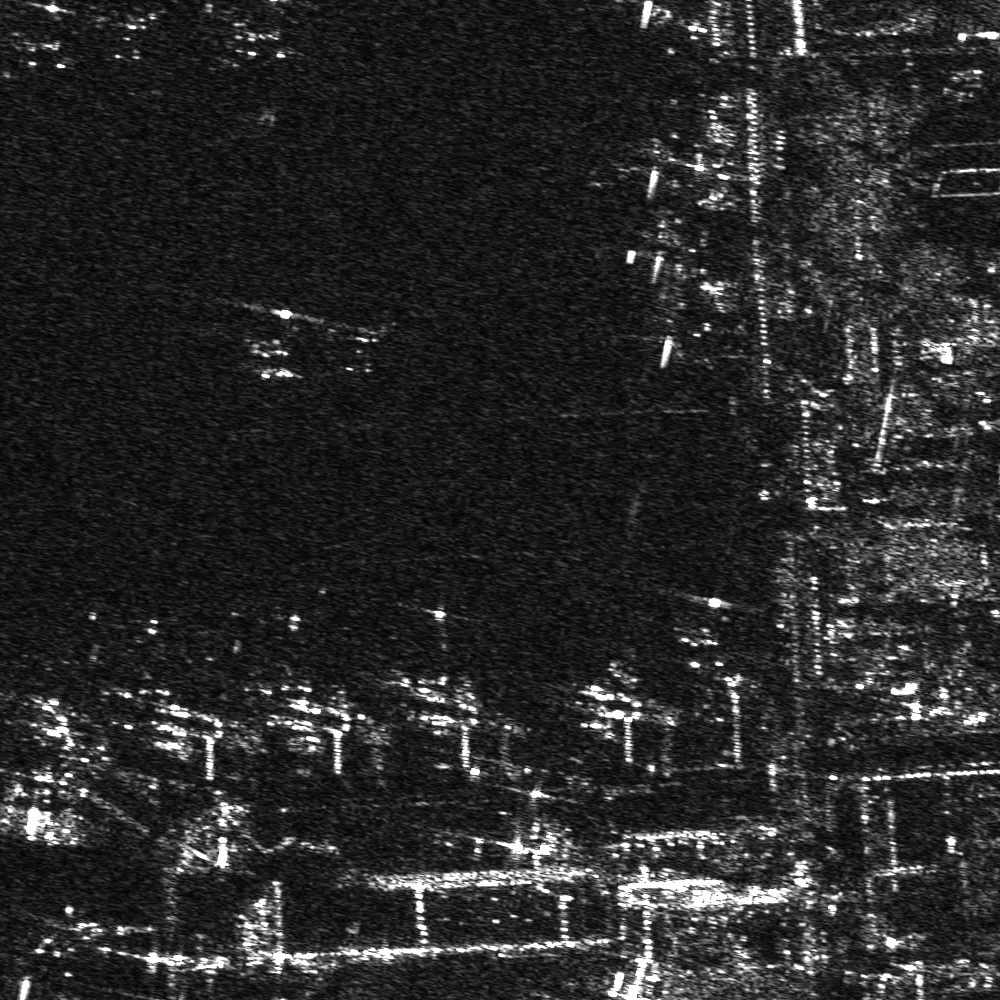A220: (665, 589, 756, 685), (328, 315, 393, 376)
other: (216, 295, 326, 388)
